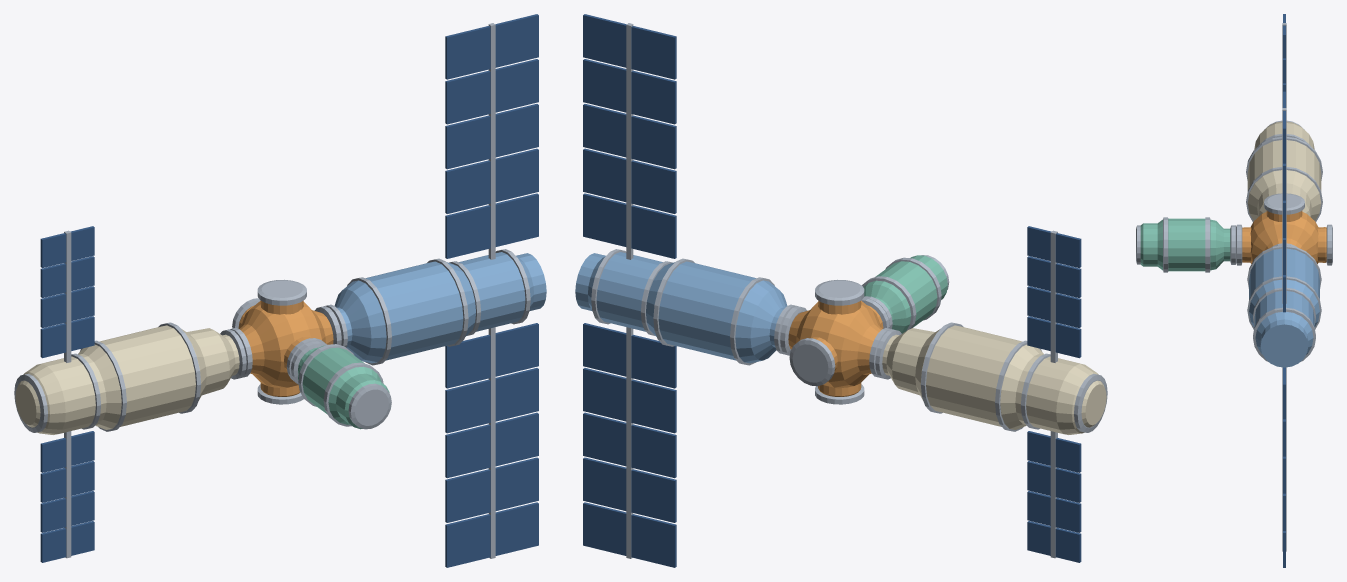
Rendered from ros.glb.
3 views of the same model, side by side, from view 1: azimuth 30°, elevation 25°; view 2: azimuth 150°, elevation 25°; view 3: azimuth 270°, elevation 25° (orthographic). The views are drawn at different scales.
Parts seen in each view (by area): view 1: Solar-array segment (×36), Laboratory hull, Science and power hull, Structural beam (×2), Universal node, Airlock hull, Docking collar (×3); view 2: Solar-array segment (×36), Laboratory hull, Science and power hull, Structural beam (×2), Universal node, Docking collar (×3), Airlock hull; view 3: Science and power hull, Docking collar (×12), Laboratory hull, Airlock hull, Universal node, Structural beam, Port neck (×2).
Part boxes in pixels (left/top/right/bottom): Solar-array segment (×36): left=40, top=14, right=538, bottom=567; Laboratory hull: left=15, top=325, right=239, bottom=434; Science and power hull: left=334, top=252, right=546, bottom=363; Structural beam (×2): left=64, top=23, right=495, bottom=558; Universal node: left=239, top=300, right=333, bottom=388; Airlock hull: left=298, top=345, right=389, bottom=429; Docking collar (×3): left=14, top=279, right=391, bottom=432; Solar-array segment (×36): left=583, top=14, right=1081, bottom=567; Laboratory hull: left=882, top=325, right=1106, bottom=434; Science and power hull: left=575, top=252, right=787, bottom=363; Structural beam (×2): left=626, top=23, right=1057, bottom=558; Universal node: left=788, top=300, right=882, bottom=388; Docking collar (×3): left=789, top=279, right=1107, bottom=432; Airlock hull: left=863, top=255, right=947, bottom=333; Science and power hull: left=1249, top=248, right=1319, bottom=367; Docking collar (×12): left=1163, top=137, right=1332, bottom=361; Laboratory hull: left=1247, top=121, right=1321, bottom=220; Airlock hull: left=1140, top=218, right=1230, bottom=271; Universal node: left=1250, top=212, right=1318, bottom=263; Structural beam: left=1282, top=108, right=1286, bottom=551; Port neck (×2): left=1242, top=227, right=1326, bottom=262.
Size of the model in its own units: 15.18 by 15.1 by 6.1.
